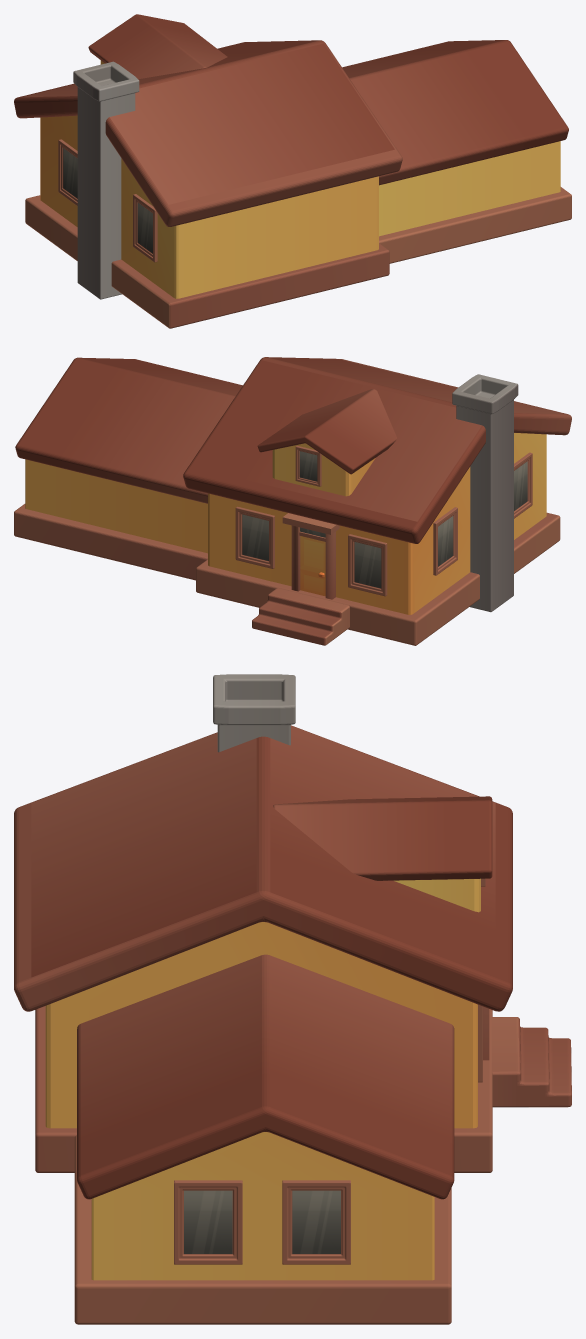
Rendered from CASA AMARILLA.fbx.
3 renders of one model, top to bottom at view 1: azimuth 30°, elevation 25°; view 2: azimuth 150°, elevation 25°; view 3: azimuth 270°, elevation 25°, orthographic. The views are drawn at different scales.
Parts seen in each view (by area): view 1: acampada.002; view 2: acampada.002; view 3: acampada.002.
Part boxes in pixels (x1,y1,x2,y2): acampada.002: (14,14,571,328); acampada.002: (14,357,571,645); acampada.002: (14,674,571,1324).
Bounding box in the file's own units: 2236 × 1588 × 1051.
2 materials, 2 textured.
